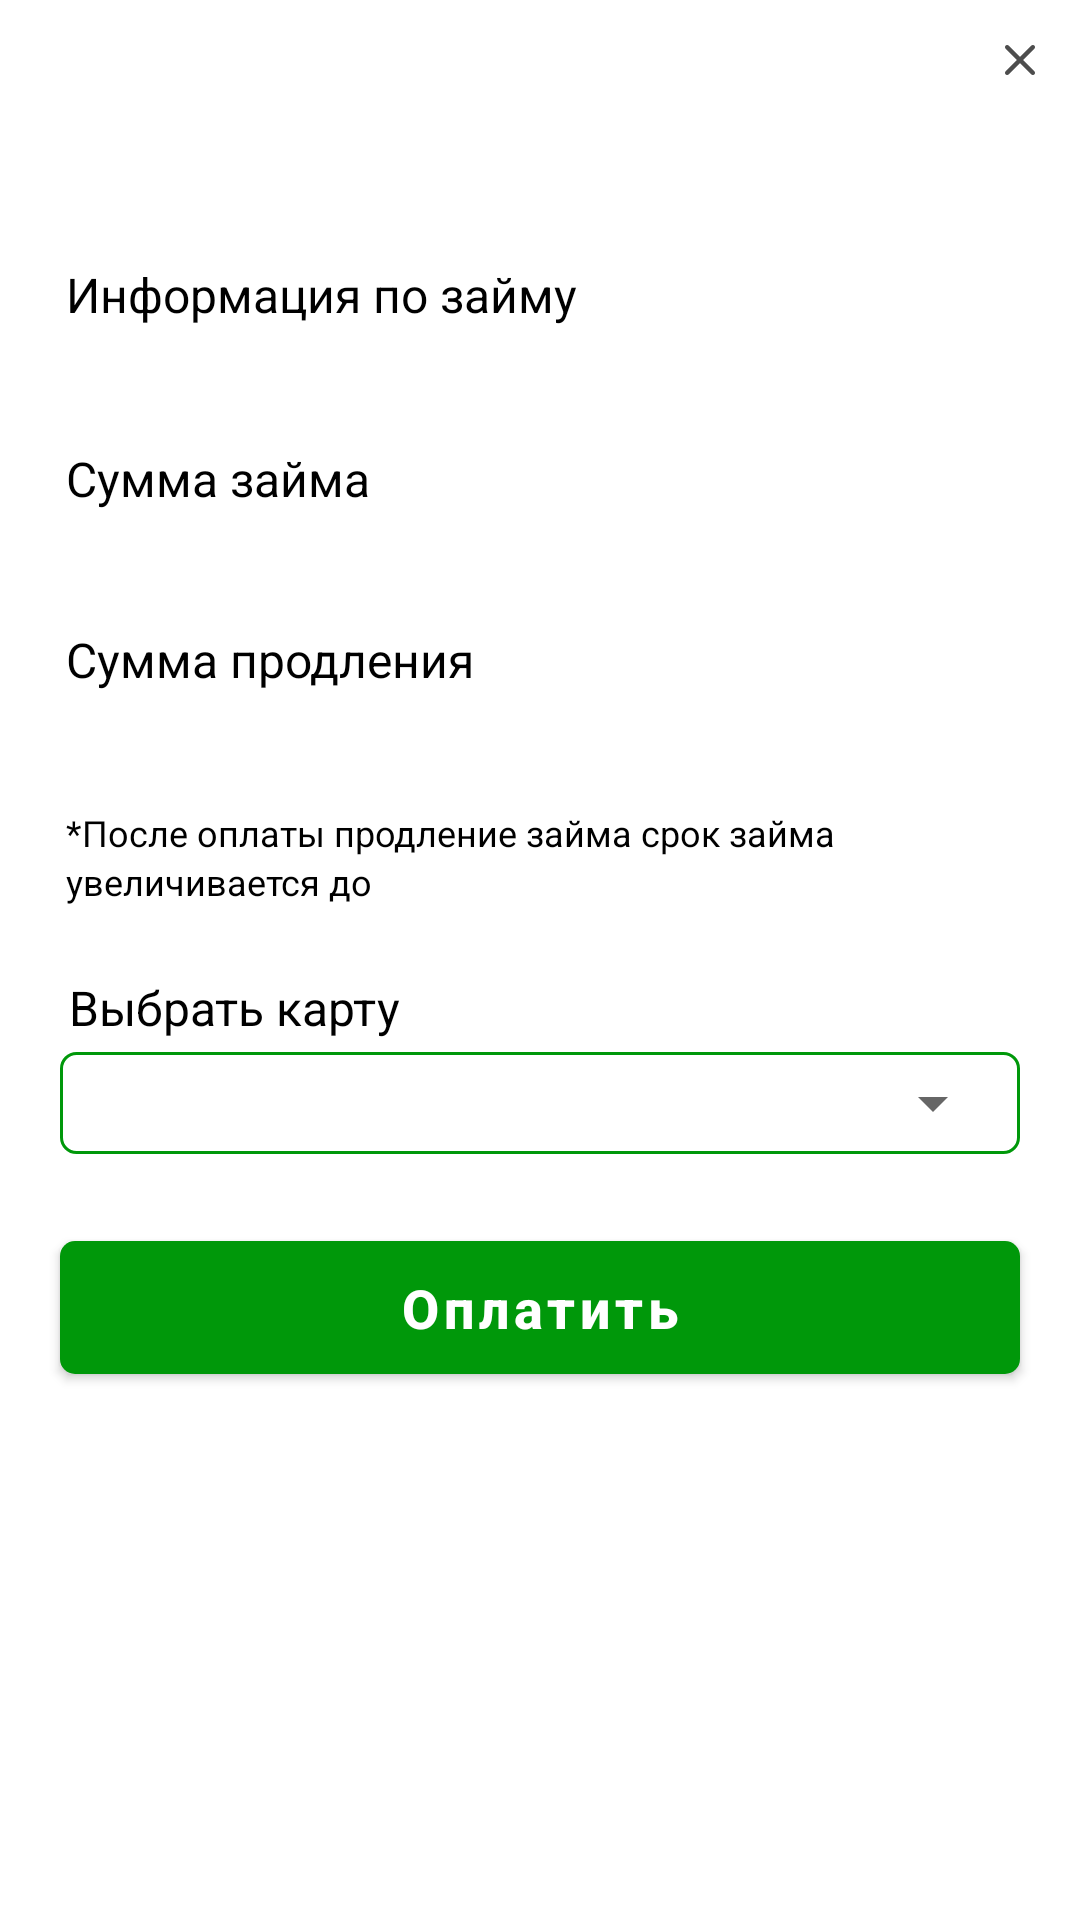

Locate icon controls on the screen. Image size 1080x1920, boxes as bbox=(x1, y1, x2, y2).
close: bbox=(1005, 45, 1035, 75)
